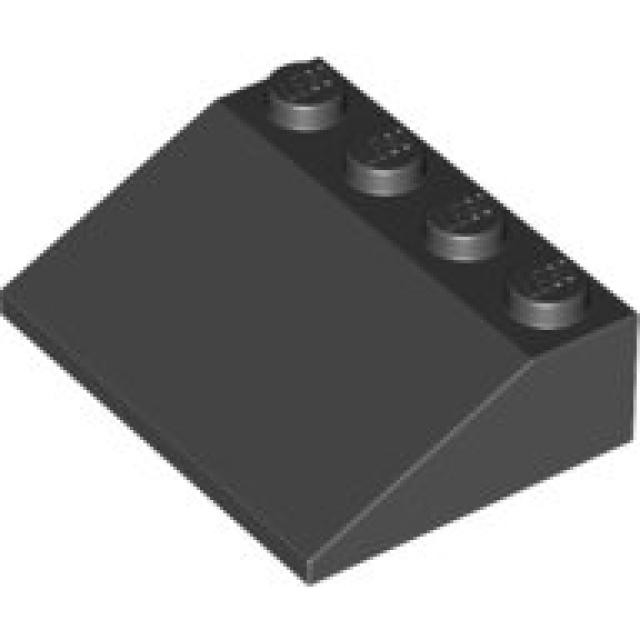Black_Large: (0, 57, 637, 587)
